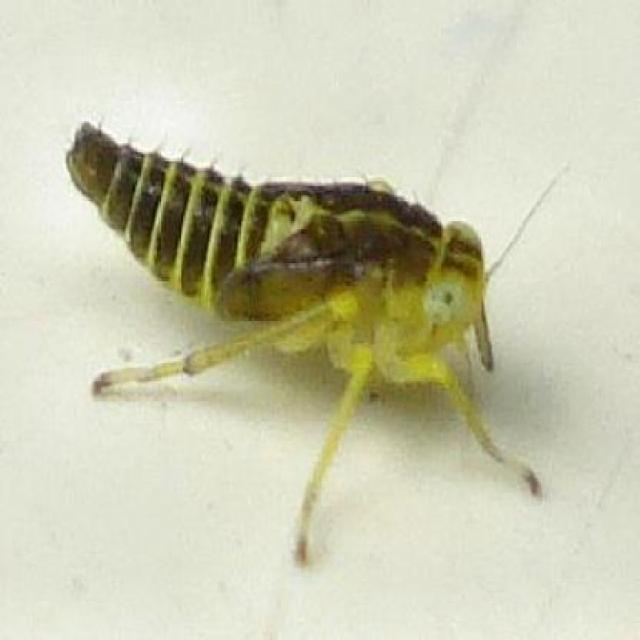green-leafhopper: (70, 124, 512, 545)
